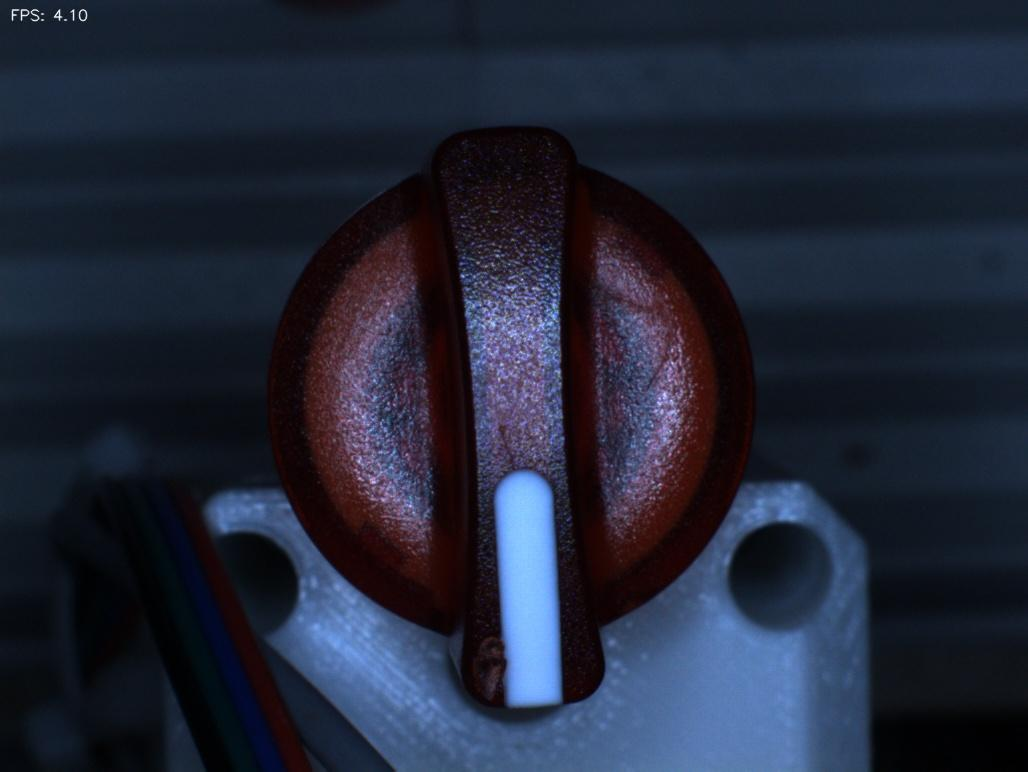Choc: (455, 623, 525, 716)
